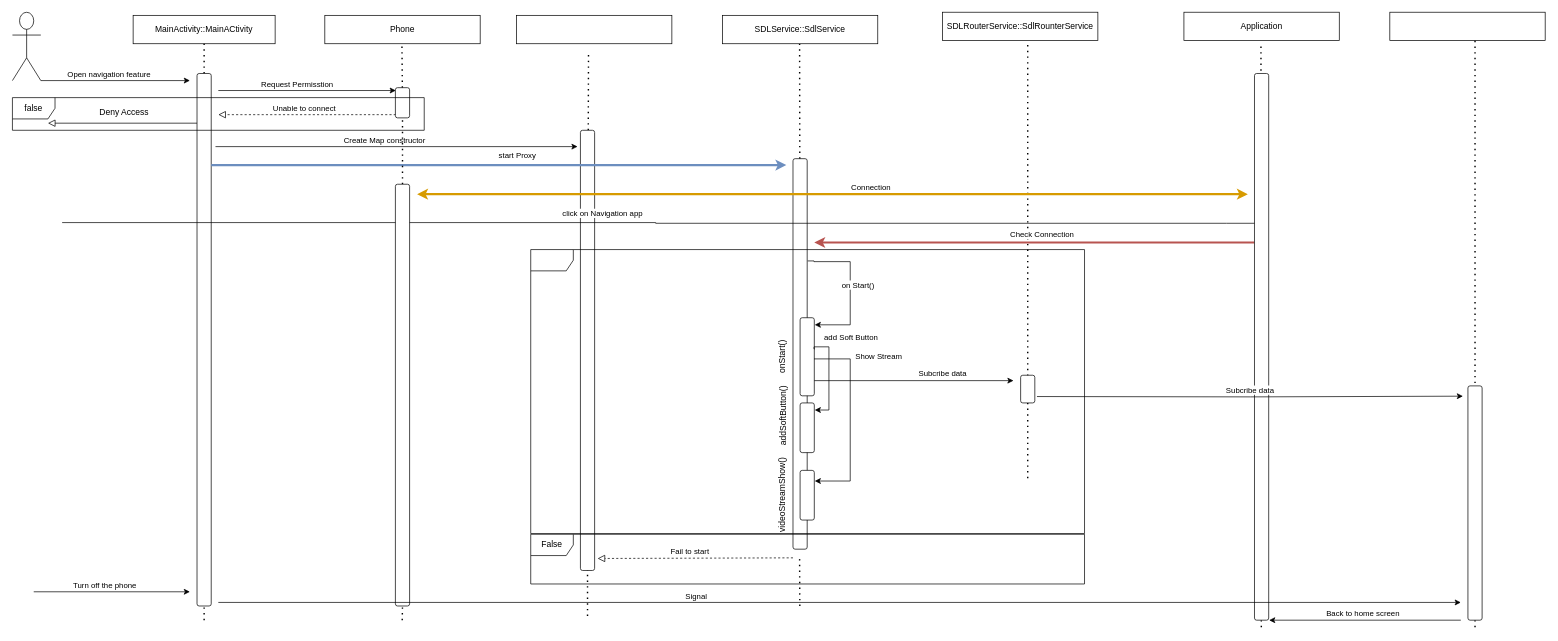
Image size: 1558x641. Some labels were removed from this diagram. The shapes that lost their labels are listed below. From the top down, each one's box as (x1, y1, x2, y2) in pixels, then its label:
(12, 12, 41, 81): Actor
(516, 15, 672, 44): SDLService::MapDisplay
(1389, 12, 1545, 41): Rasberry::Navigation app
(530, 249, 1085, 534): True
